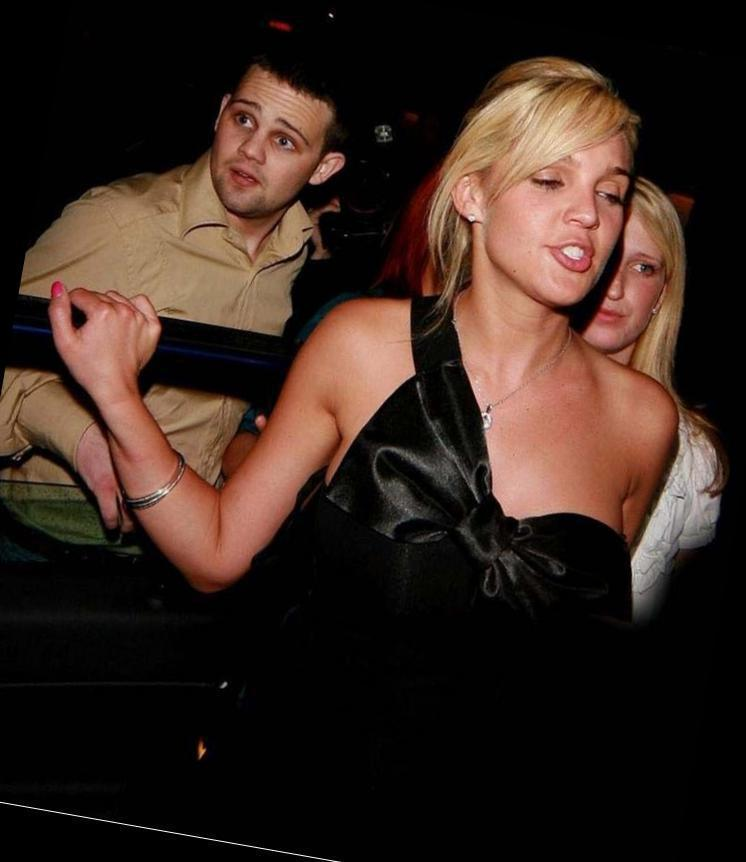Drunk: (491, 102, 626, 295), (217, 72, 320, 205)
